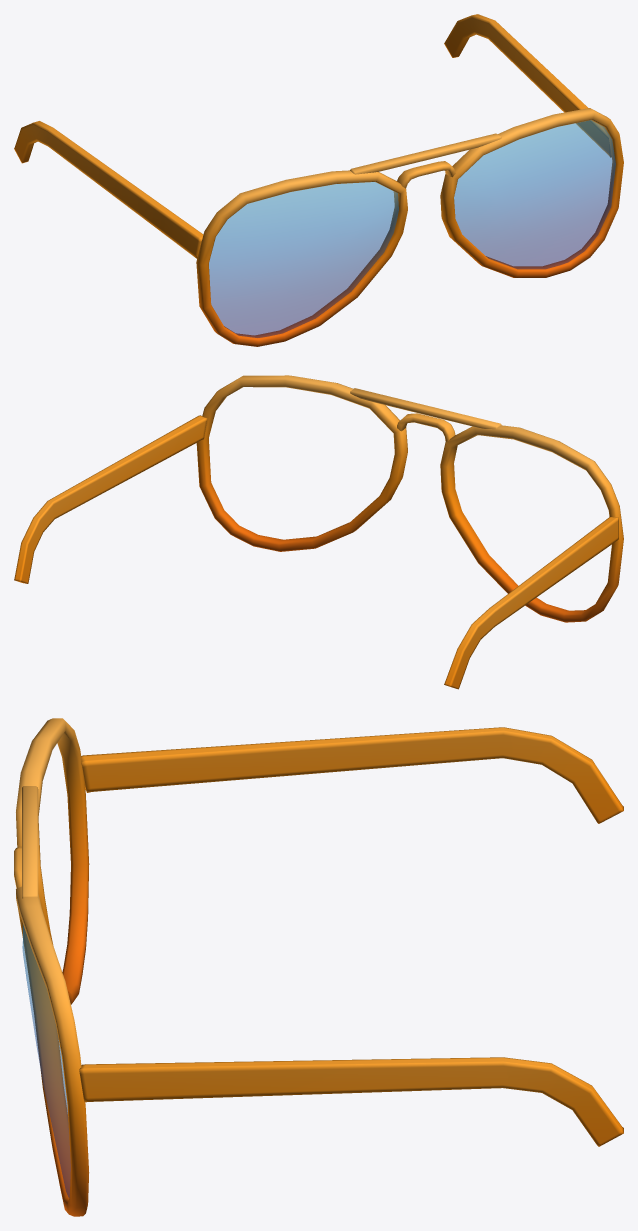
File: glasses_006.glb
The picture shows the model from 3 angles, top to bottom: view 1: azimuth 30°, elevation 25°; view 2: azimuth 150°, elevation 25°; view 3: azimuth 270°, elevation 25°; orthographic projection. The views are drawn at different scales.
Parts seen in each view (by area): view 1: Glasses_006; view 2: Glasses_006; view 3: Glasses_006.
Boxes of the visible parts, left/top/right/bottom form: Glasses_006: left=14, top=14, right=623, bottom=346; Glasses_006: left=14, top=375, right=623, bottom=689; Glasses_006: left=14, top=718, right=623, bottom=1216.
Bounding box in the file's own units: 0.2451 × 0.0873 × 0.1884.
Materials: 2 (2 with a texture image).
